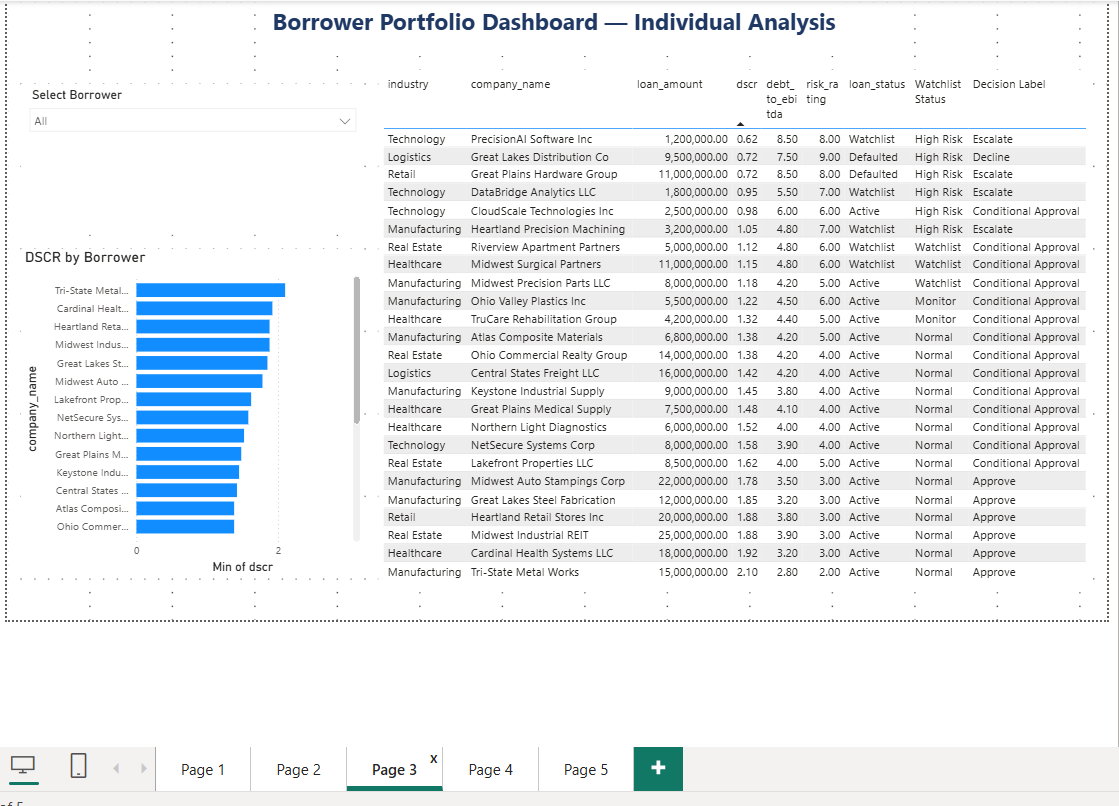

This screenshot's page, from the dashboard's own definition file:
{"tool":"powerbi","page":{"name":"Page 3","canvas":[1280,720],"ordinal":2},"visuals":[{"type":"textbox","box":[304,0,672,64],"z":0},{"type":"slicer","fields":{"Values":["borrowers_data.company_name"]},"box":[16,96,400,176],"z":1},{"type":"tableEx","fields":{"Values":["borrowers_data.industry","borrowers_data.company_name","borrowers_data.loan_amount","borrowers_data.dscr","borrowers_data.debt_to_ebitda","borrowers_data.risk_rating","borrowers_data.loan_status","borrowers_data.Watchlist Status","borrowers_data.Decision Label"]},"box":[432,80,832,608],"z":2},{"type":"clusteredBarChart","title":"DSCR by Borrower","fields":{"Category":["borrowers_data.company_name"],"Y":["Min(borrowers_data.dscr)"]},"box":[16,288,400,384],"z":3}]}

Visuals, with their boxes on the page's 1280x720 design canvas (x1, y1, x2, y2). These are canvas units, not pixel positions in the 1119x806 screenshot, which may show the page scaled, cropped or inside an application window:
textbox: (304, 0, 976, 64)
slicer - borrowers_data.company_name: (16, 96, 416, 272)
tableEx - borrowers_data.industry x borrowers_data.company_name: (432, 80, 1264, 688)
"DSCR by Borrower" clusteredBarChart: (16, 288, 416, 672)
